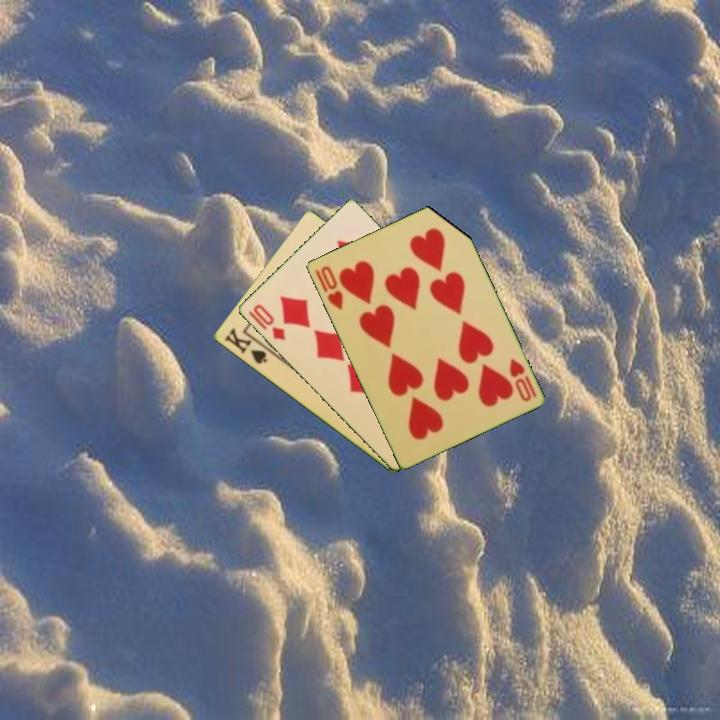10d: (245, 300, 288, 344)
10h: (311, 262, 346, 313), (505, 355, 539, 405)
Ks: (220, 324, 275, 367)
